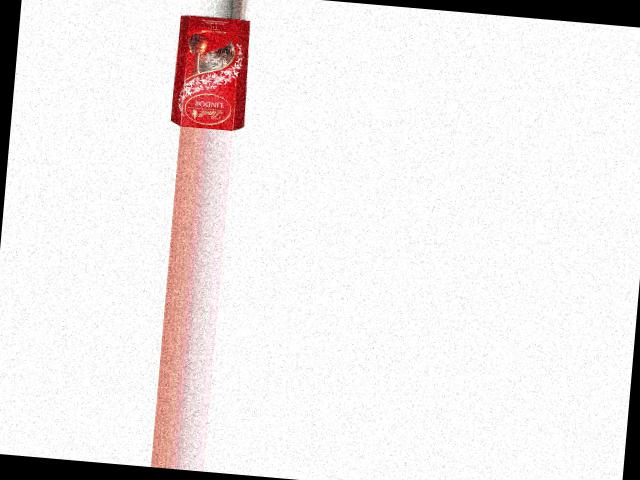chocolate: (165, 12, 254, 131)
